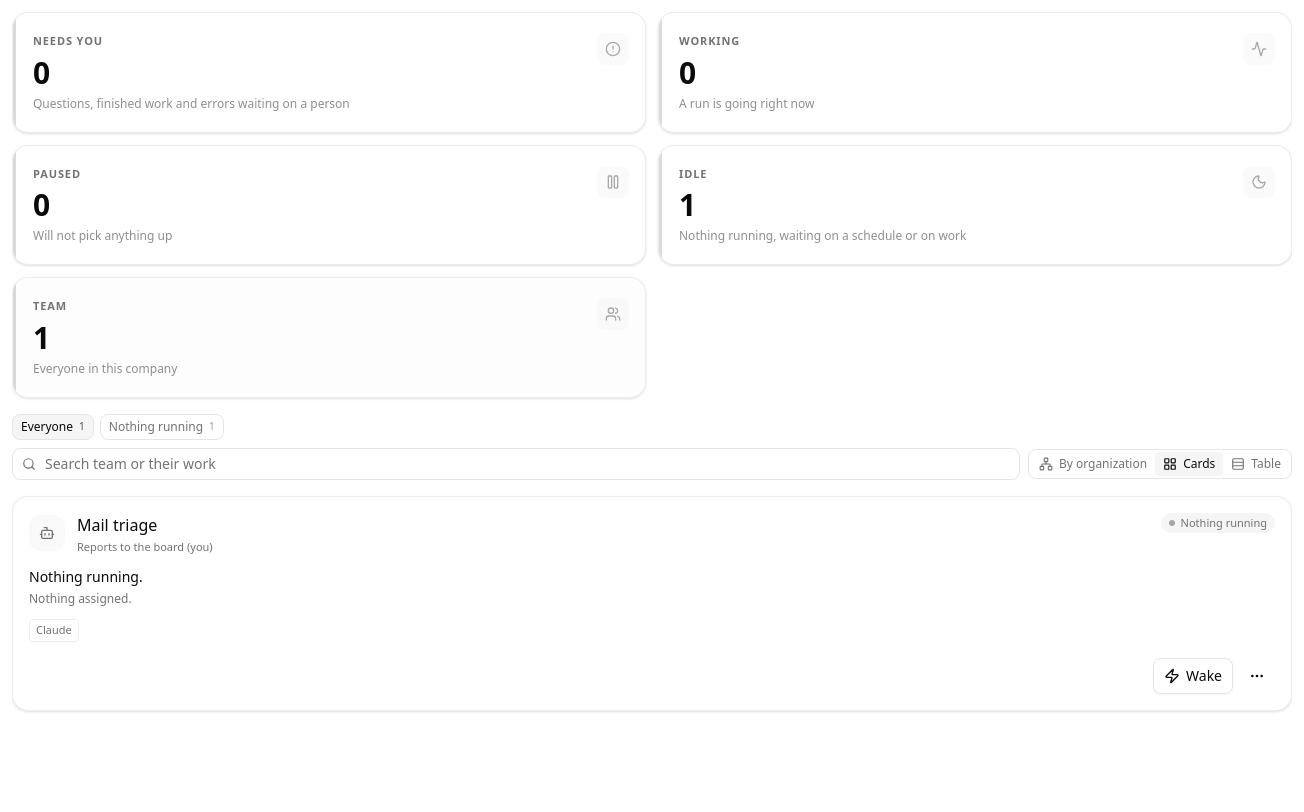
TeamCurrentWork › switches to a table showing the same people, with headings
The image size is (1304, 812).
Click the button "Table" at coordinates (1256, 464), box top-left (1223, 452), bottom-right (1289, 476)
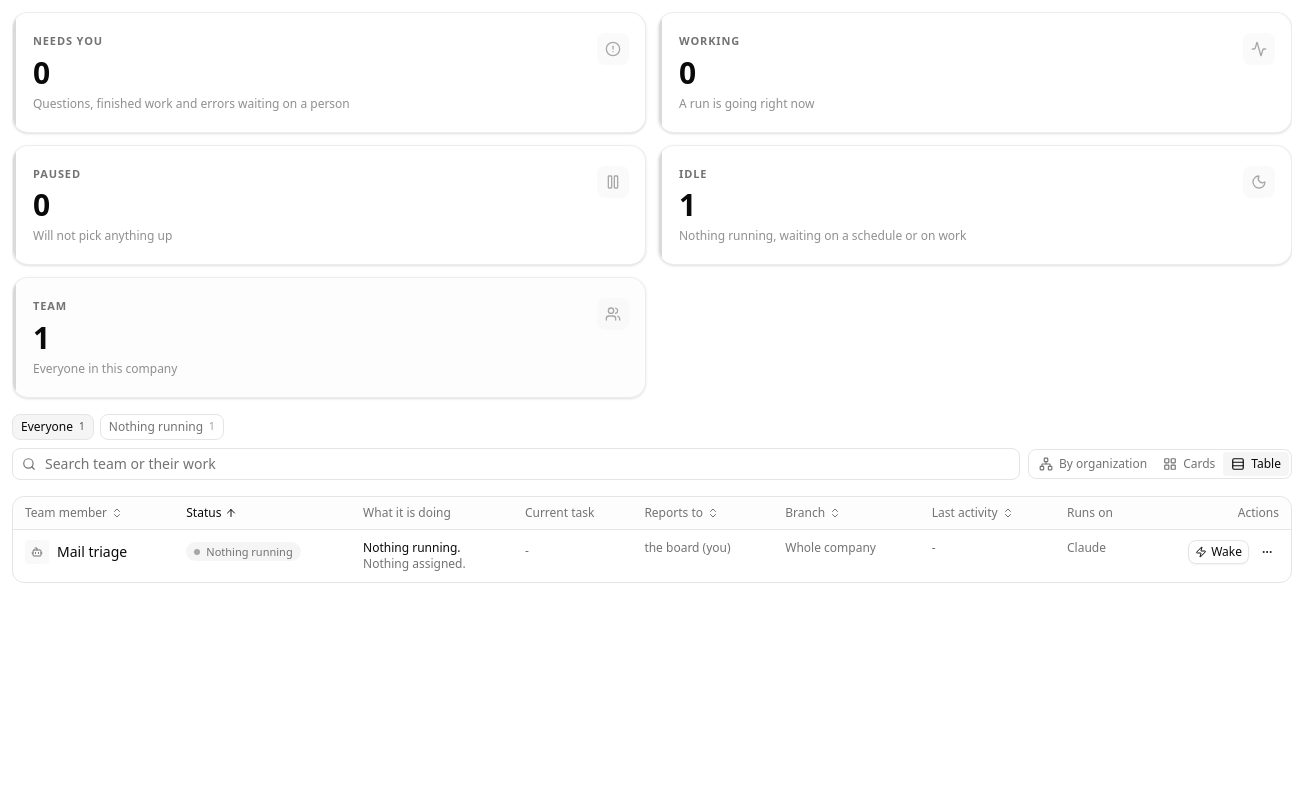
Expected: the table is shown, top-left (13, 496), bottom-right (1291, 582)
Expected: the text "Team member" is shown, top-left (25, 504), bottom-right (123, 520)
Expected: the text "What it is doing" is shown, top-left (351, 496), bottom-right (513, 529)
